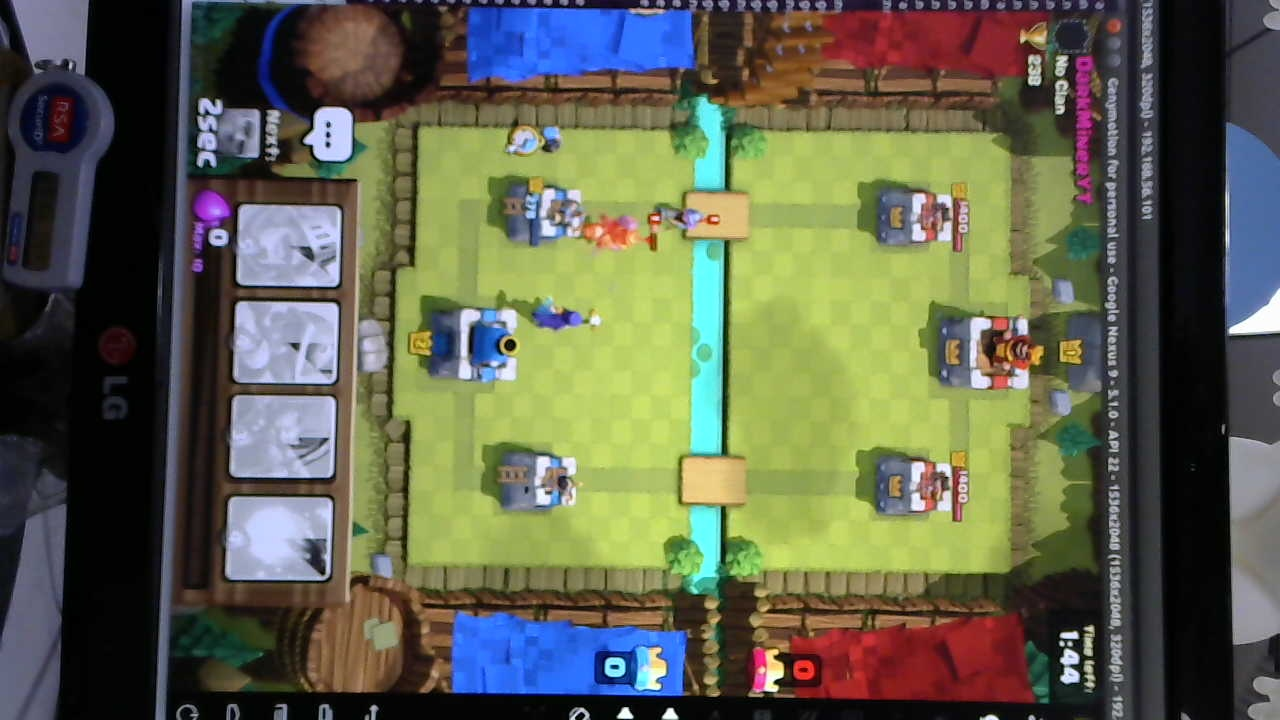arena: (500, 179, 590, 244), (500, 448, 579, 512)
bomb: (534, 121, 567, 159)
earena: (874, 452, 954, 519), (879, 184, 957, 250)
eking: (936, 311, 1042, 394)
king: (423, 303, 522, 386)
musketeer: (658, 204, 708, 231)
prince: (578, 212, 655, 255)
witch: (534, 299, 603, 333)
